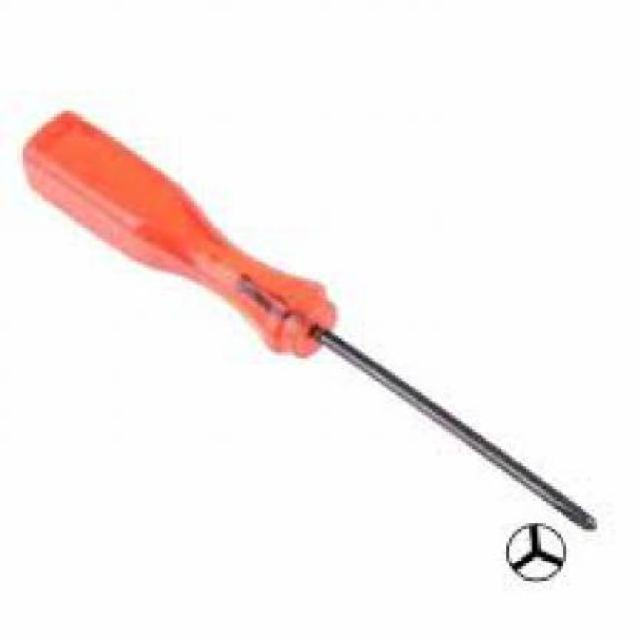screwdriver: (22, 105, 598, 538)
